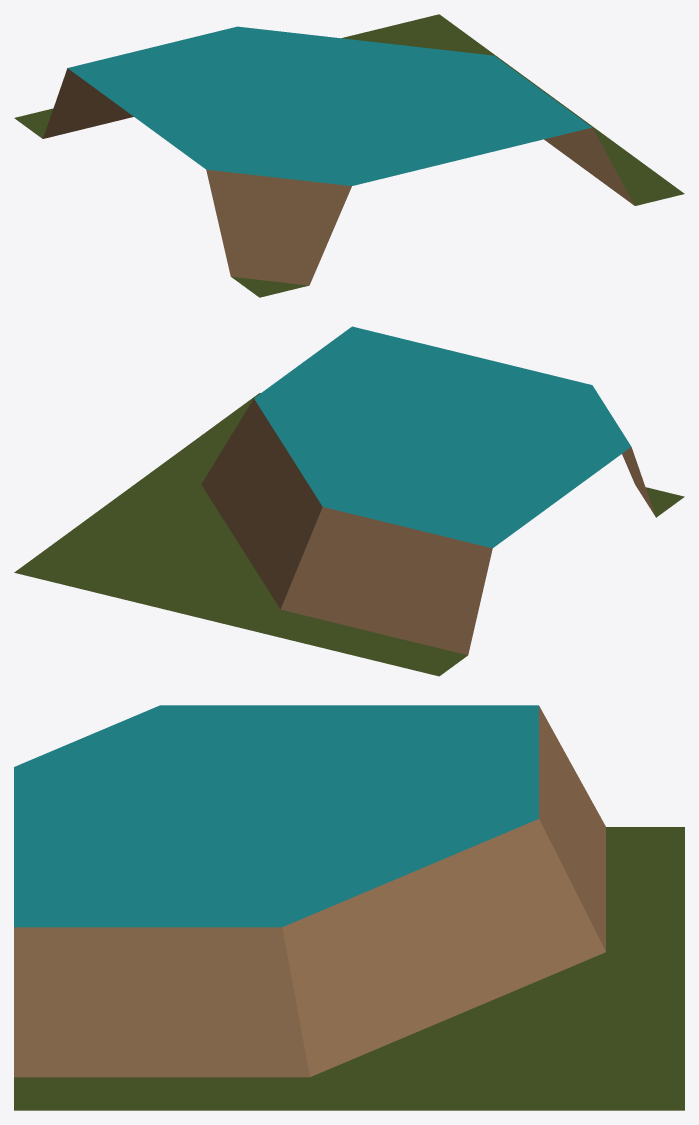
The model's file is TB_Env_Mountain_B.FBX.
3 views of the same model, one above another, from view 1: azimuth 30°, elevation 25°; view 2: azimuth 150°, elevation 25°; view 3: azimuth 270°, elevation 25° (orthographic). The views are drawn at different scales.
Parts seen in each view (by area): view 1: TB_Env_Mountain_B; view 2: TB_Env_Mountain_B; view 3: TB_Env_Mountain_B.
Part boxes in pixels (x1=…): TB_Env_Mountain_B: x1=14, y1=14, x2=684, y2=297; TB_Env_Mountain_B: x1=14, y1=326, x2=684, y2=676; TB_Env_Mountain_B: x1=14, y1=705, x2=684, y2=1110.
Bounding box in the file's own units: 10 × 2 × 10.
Materials: 1 (1 with a texture image).
